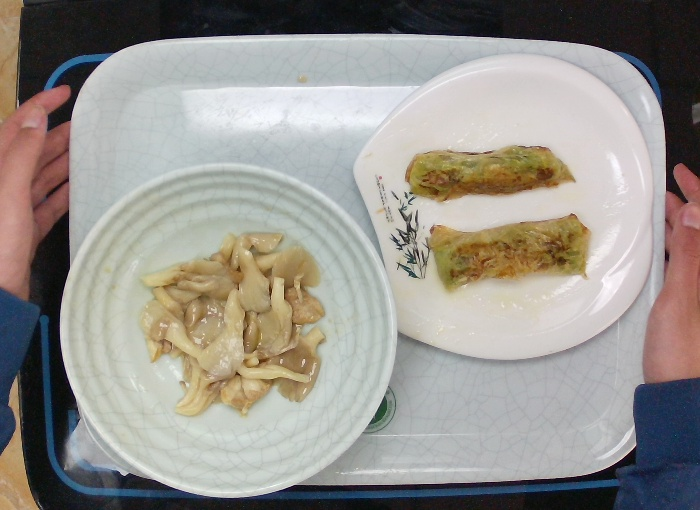JYsf-Da_Tang_Wan: (56, 153, 399, 504)
JYsf-Mian_Pan: (349, 49, 658, 367)
